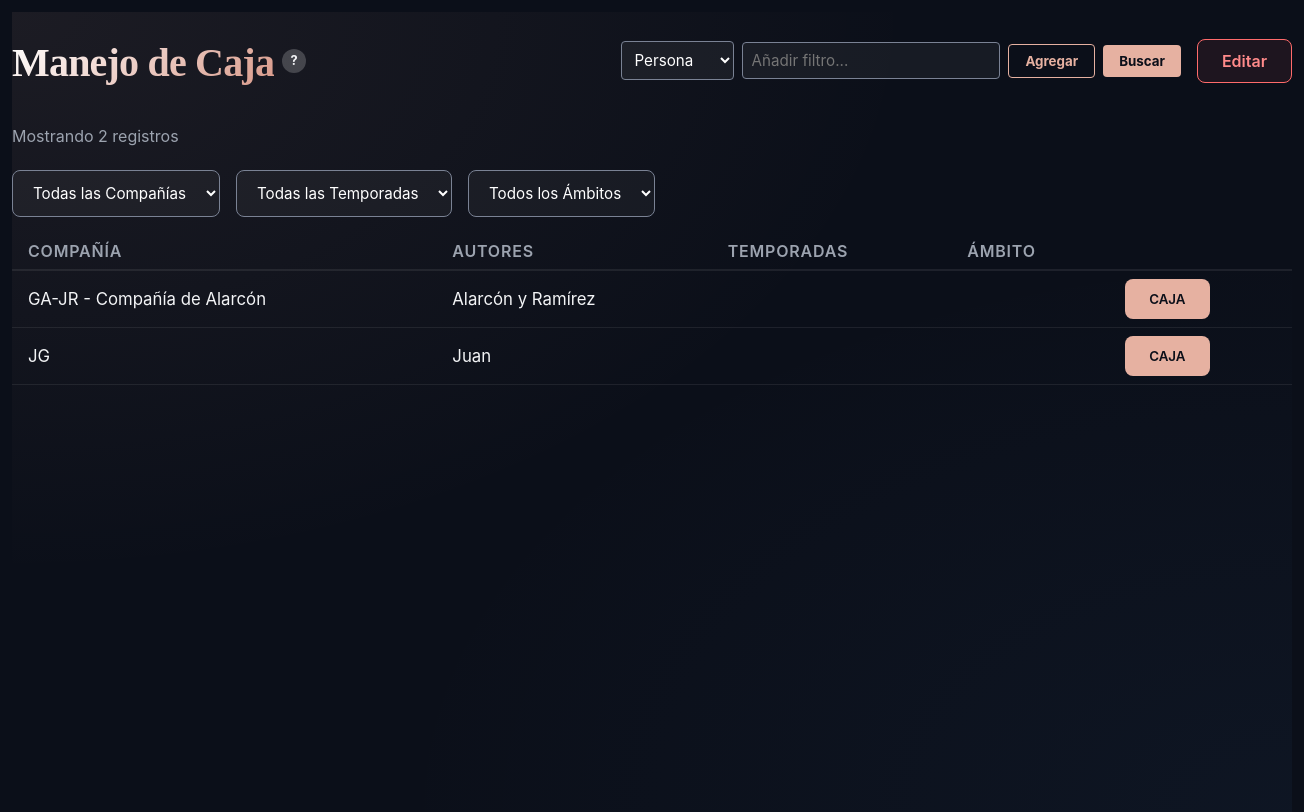
Test: Manejo de Caja: la compañía se resuelve por número en los resultados y la búsqueda › la búsqueda por persona encuentra el registro con referencia numérica
The width and height of the screenshot is (1304, 812).
Check: the text "Mostrando 2 registros" is shown, box [12, 126, 179, 146]
Select "Persona" in the dropdown named "Buscar en": point(678, 61) [622, 41, 734, 80]
In the field with placeholder "Añadir filtro...": point(872, 61) [742, 42, 1000, 79], type "Alarcón"
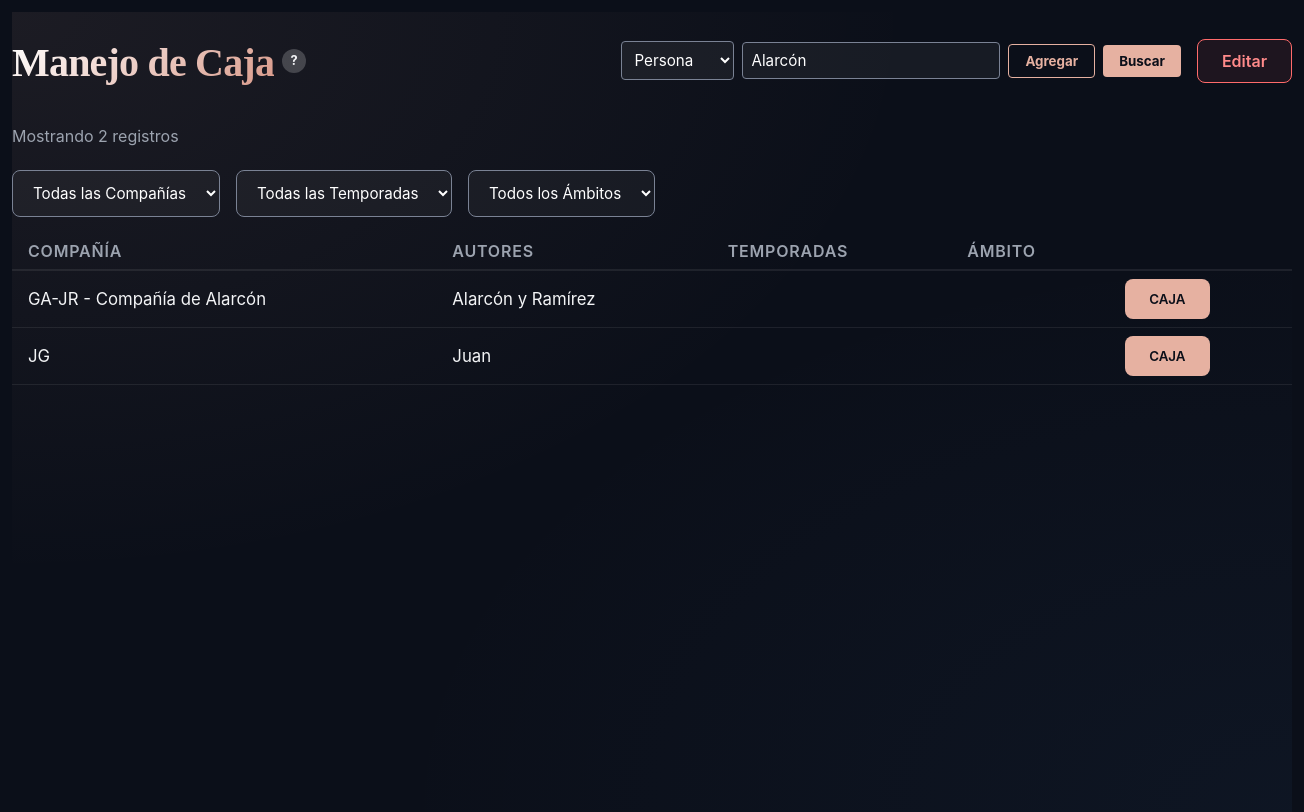
Click the button "Buscar": point(1142, 61) [1103, 45, 1181, 77]
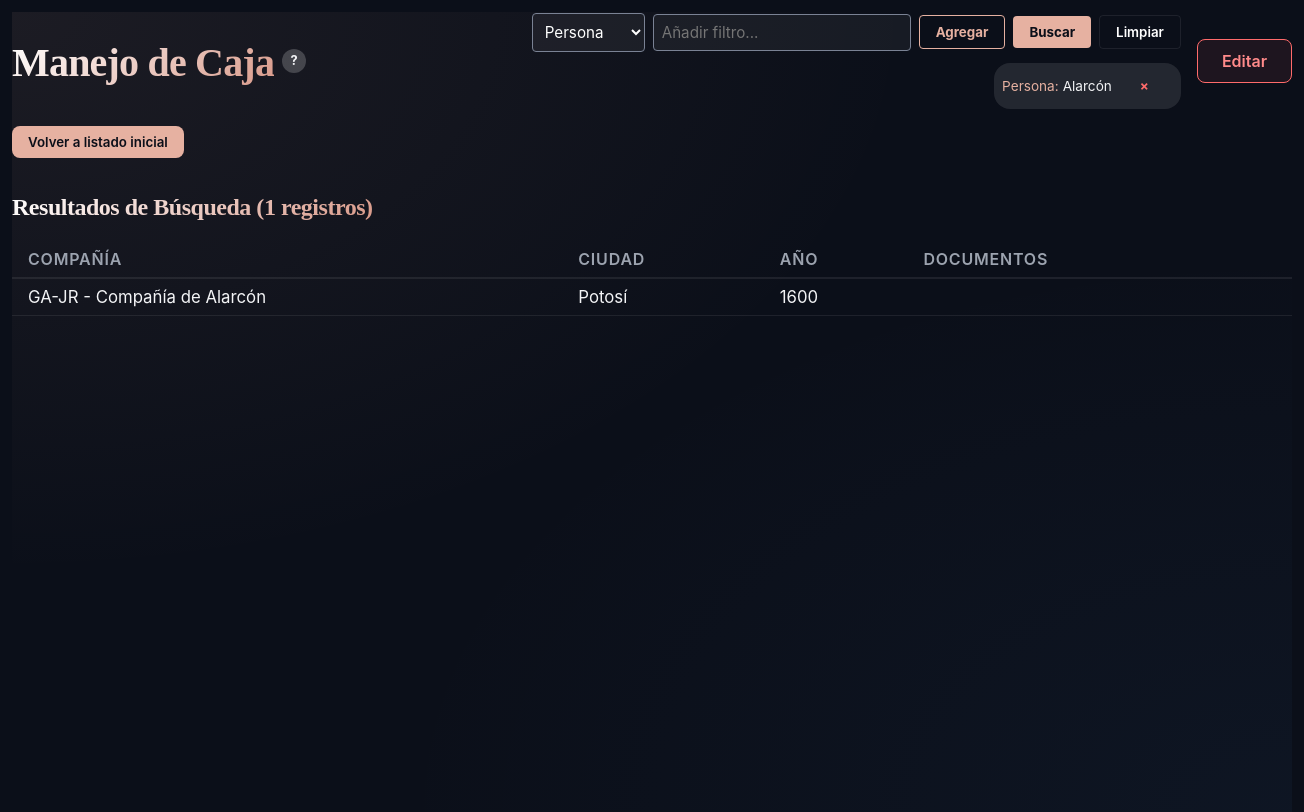
Check: the heading "Resultados de Búsqueda (1 registros)" is shown, box [12, 194, 373, 221]
